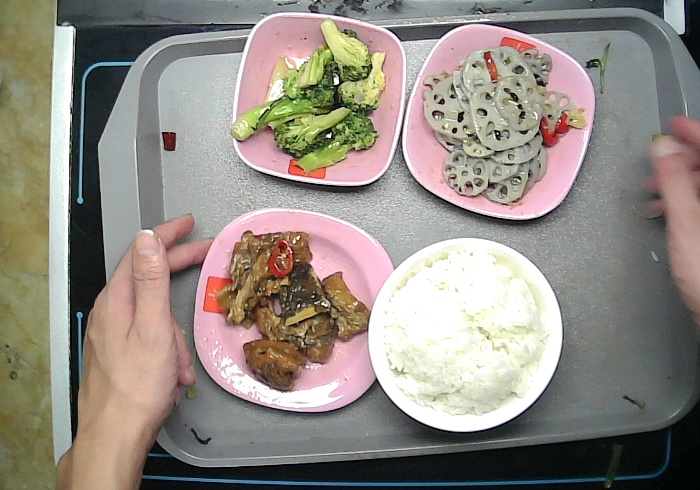SHKJ-Fan_Wan: (365, 234, 567, 435)
SHKJ-Fen_Se_Cai_Die: (397, 22, 597, 222)
SHKJ-Fen_Se_Si_Fang_Cai_Die: (189, 207, 398, 417)
SHKJ-Fen_Se_Xiao_Fang_Die: (230, 10, 409, 191)
